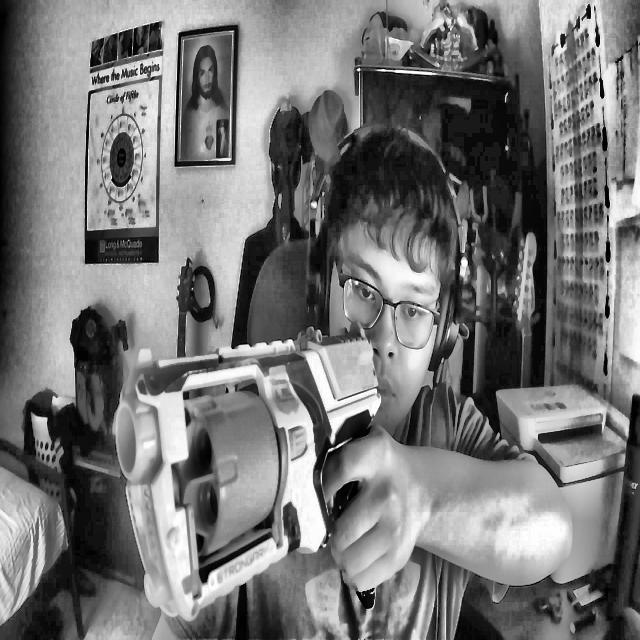Nerf_Blaster: (116, 323, 382, 623)
